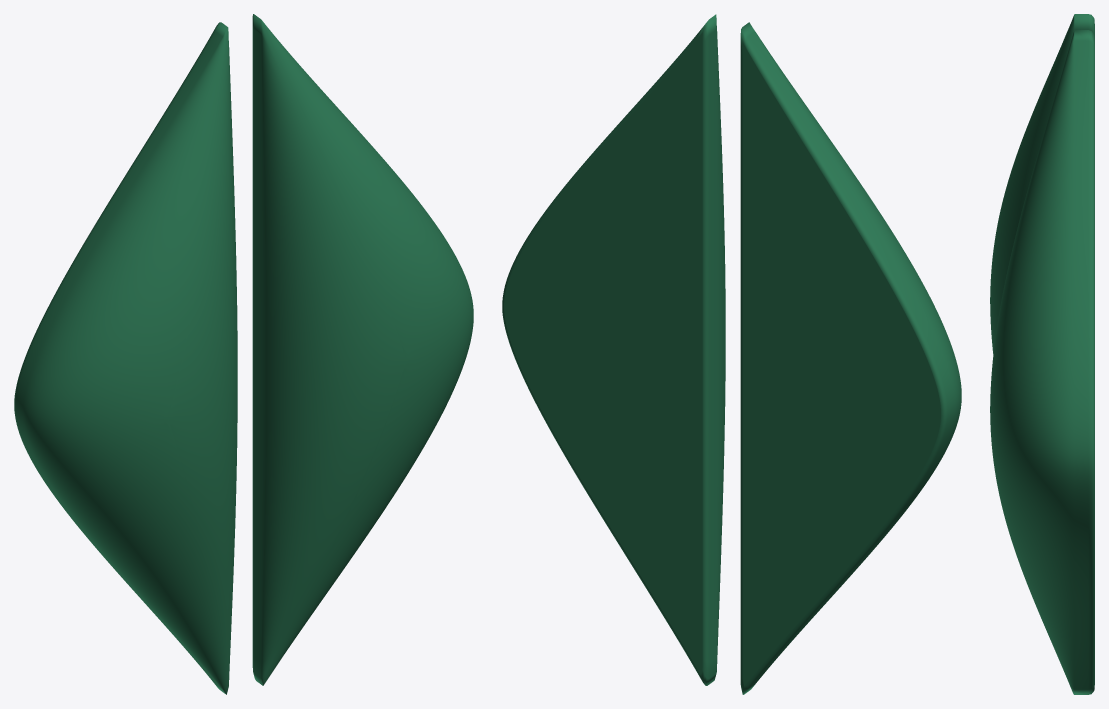
File: matched-pair-v1.glb
The picture shows the model from 3 angles, left to right: view 1: azimuth 30°, elevation 25°; view 2: azimuth 150°, elevation 25°; view 3: azimuth 270°, elevation 25°; orthographic projection.
Parts seen in each view (by area): view 1: Split-Marquise Cabochon 28x9x4mm.001, Split-Marquise Cabochon 28x9x4mm; view 2: Split-Marquise Cabochon 28x9x4mm, Split-Marquise Cabochon 28x9x4mm.001; view 3: Split-Marquise Cabochon 28x9x4mm.001, Split-Marquise Cabochon 28x9x4mm.
Boxes of the visible parts, left/top/right/bottom form: Split-Marquise Cabochon 28x9x4mm.001: left=252, top=14, right=473, bottom=685; Split-Marquise Cabochon 28x9x4mm: left=14, top=22, right=237, bottom=694; Split-Marquise Cabochon 28x9x4mm: left=740, top=22, right=961, bottom=694; Split-Marquise Cabochon 28x9x4mm.001: left=502, top=14, right=725, bottom=685; Split-Marquise Cabochon 28x9x4mm.001: left=990, top=30, right=1094, bottom=694; Split-Marquise Cabochon 28x9x4mm: left=990, top=14, right=1094, bottom=353.
Bounding box in the file's own units: 0.0194 × 0.0279 × 0.00398.
